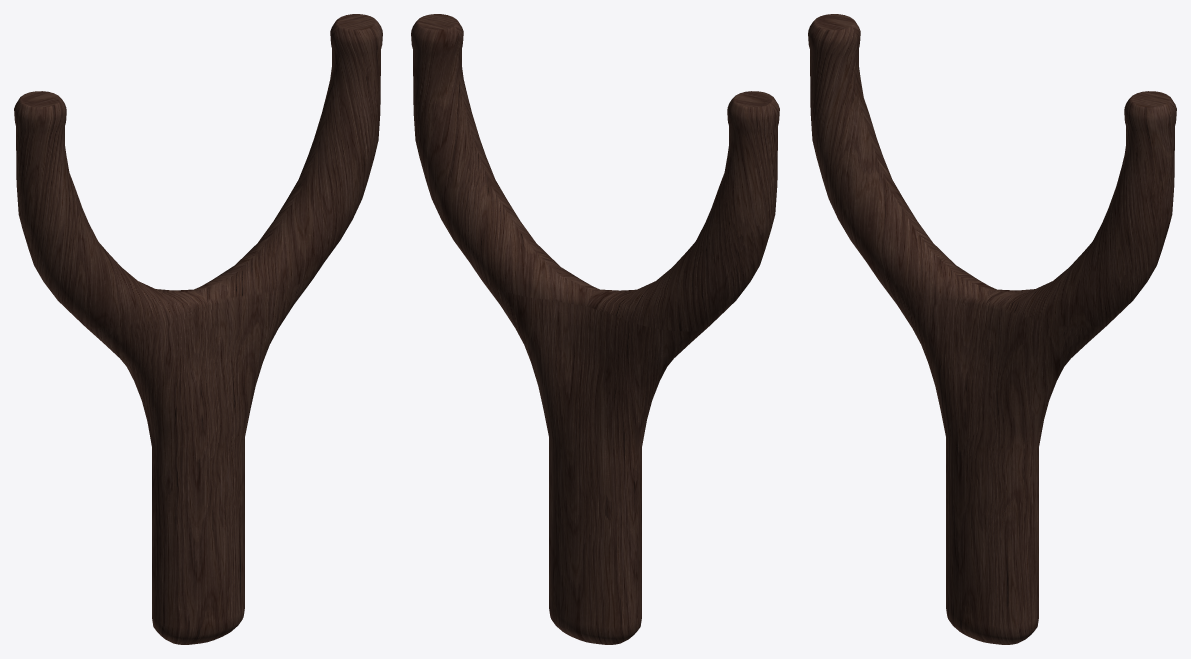
The model's file is tirachinas.fbx.
3 views of the same model, side by side, from view 1: azimuth 30°, elevation 25°; view 2: azimuth 150°, elevation 25°; view 3: azimuth 330°, elevation 25° (orthographic).
Parts seen in each view (by area): view 1: pCylinder1; view 2: pCylinder1; view 3: pCylinder1.
Part boxes in pixels (x1,y1,x2,y2): pCylinder1: (14, 14, 382, 644); pCylinder1: (411, 14, 779, 644); pCylinder1: (808, 14, 1176, 644).
Bounding box in the file's own units: 81.05 × 123 × 13.82.
Materials: 2 (2 with a texture image).
